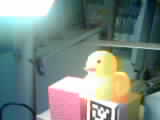duck: (74, 46, 138, 104)
